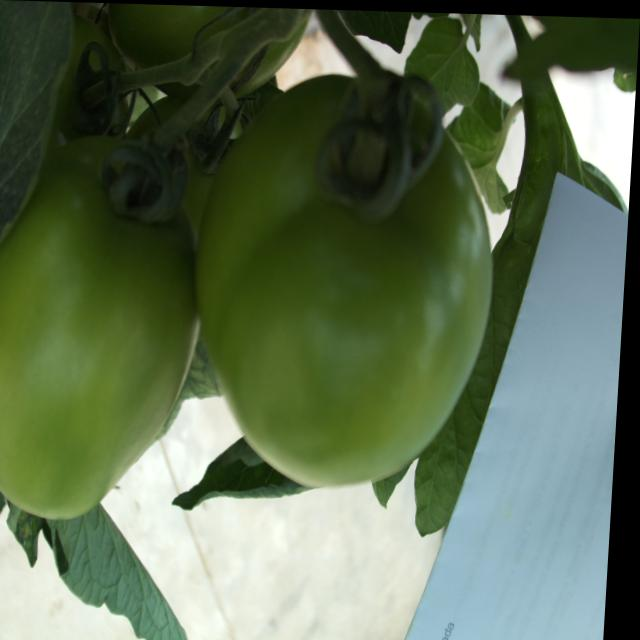yesil: (204, 52, 517, 484), (0, 120, 239, 500)
